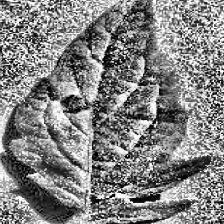disease: (10, 0, 212, 224)
